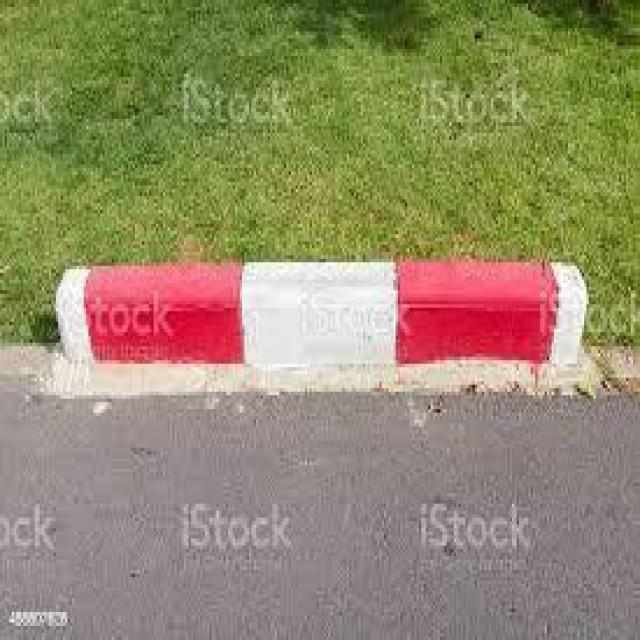curb: (58, 268, 557, 360)
